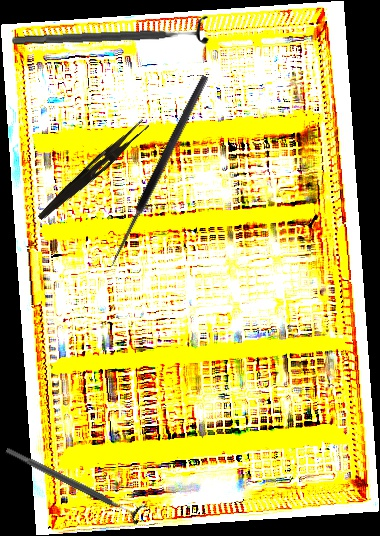Dressing Forceps: (36, 115, 150, 226)
Fixation Ring: (1, 439, 147, 526), (11, 14, 211, 56)
Hook Surgical: (108, 73, 219, 273)
